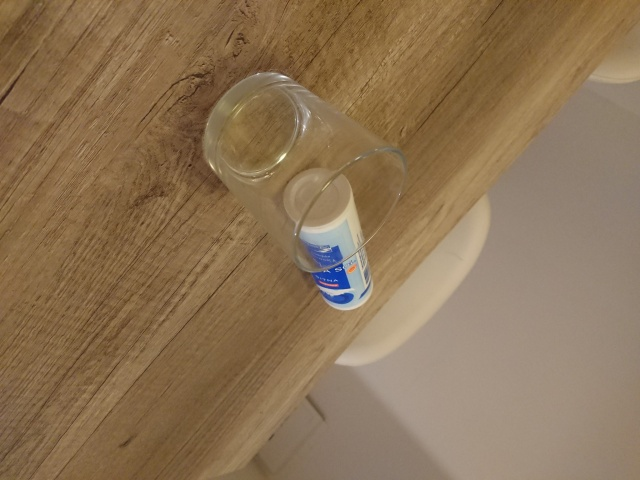Solana Pag Fine Sea Salt 250g: (279, 165, 376, 312)
